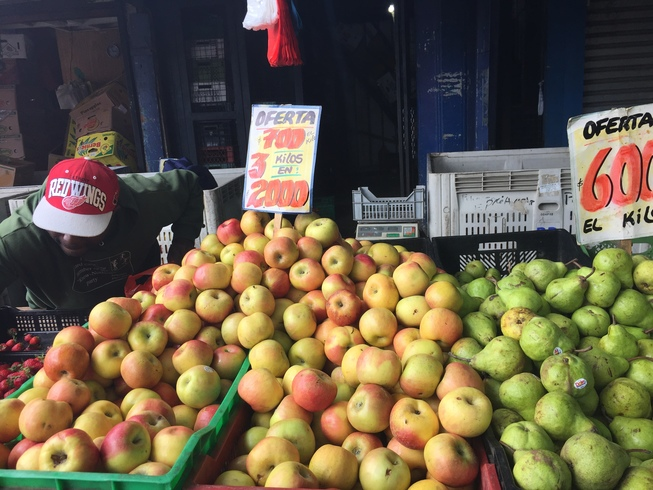precio: (561, 93, 653, 248), (235, 97, 334, 216)
